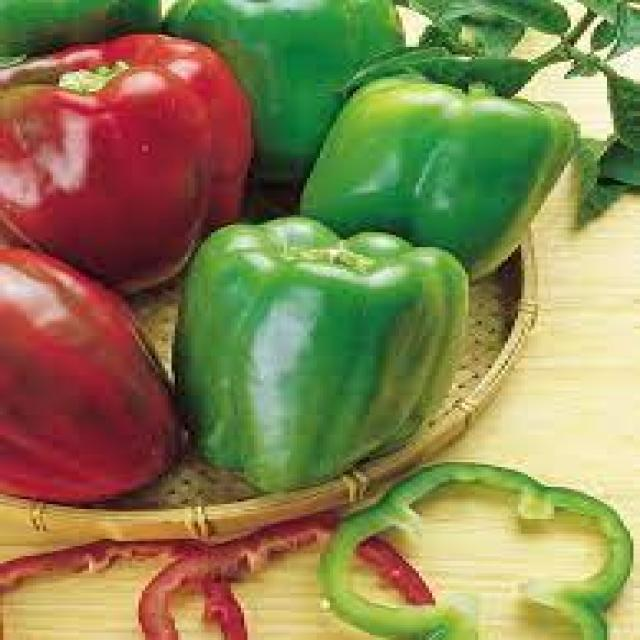Pepper: (167, 216, 470, 498), (0, 30, 257, 298), (296, 75, 579, 282), (0, 222, 190, 512)
